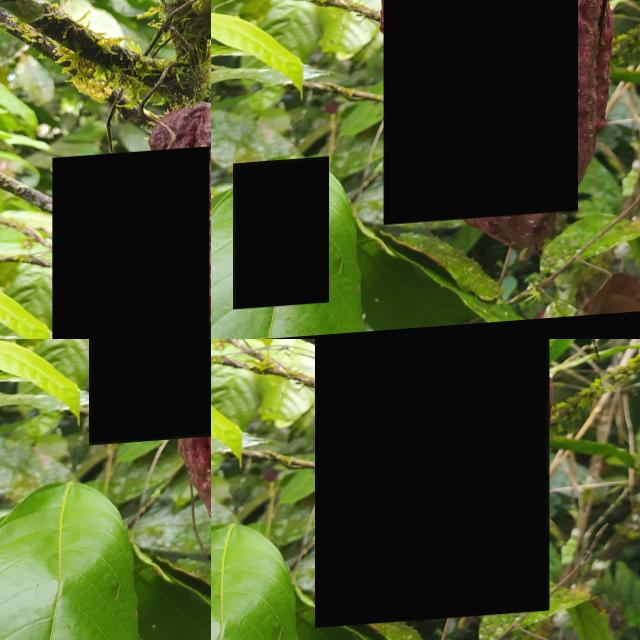Fitoftora: (383, 0, 578, 227)
Sana: (315, 339, 549, 631), (52, 150, 209, 339), (233, 159, 329, 310), (89, 339, 211, 447), (211, 171, 233, 283)
